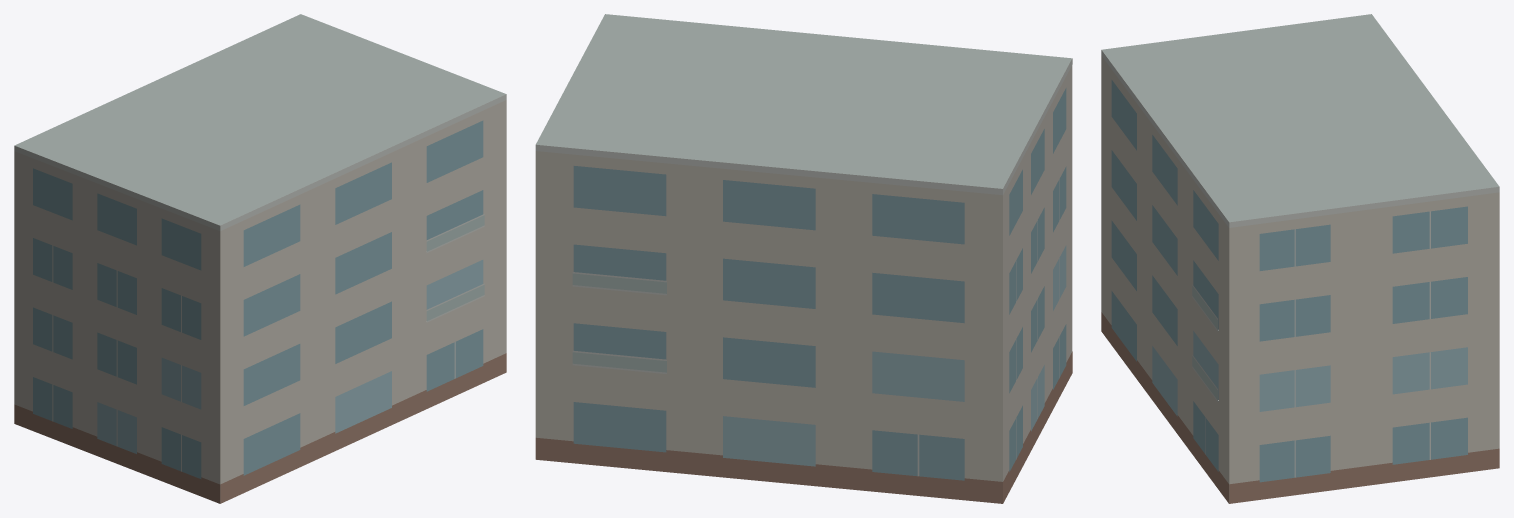
The model's file is residential-81e7d75e-928e-4db3-8454-98578121bbba.glb.
The picture shows the model from 3 angles, left to right: view 1: azimuth 30°, elevation 25°; view 2: azimuth 150°, elevation 25°; view 3: azimuth 270°, elevation 25°; orthographic projection. The views are drawn at different scales.
Visible parts, largest first — view 1: residential-81e7d75e-928e-4db3-8454-98578121bbba.tmp; view 2: residential-81e7d75e-928e-4db3-8454-98578121bbba.tmp; view 3: residential-81e7d75e-928e-4db3-8454-98578121bbba.tmp.
Boxes of the visible parts, x1,y1,x2,y2 form: residential-81e7d75e-928e-4db3-8454-98578121bbba.tmp: (14,14,506,503); residential-81e7d75e-928e-4db3-8454-98578121bbba.tmp: (535,14,1072,503); residential-81e7d75e-928e-4db3-8454-98578121bbba.tmp: (1101,14,1499,503).
Bounding box in the file's own units: 19.37 × 12.2 × 15.65.
